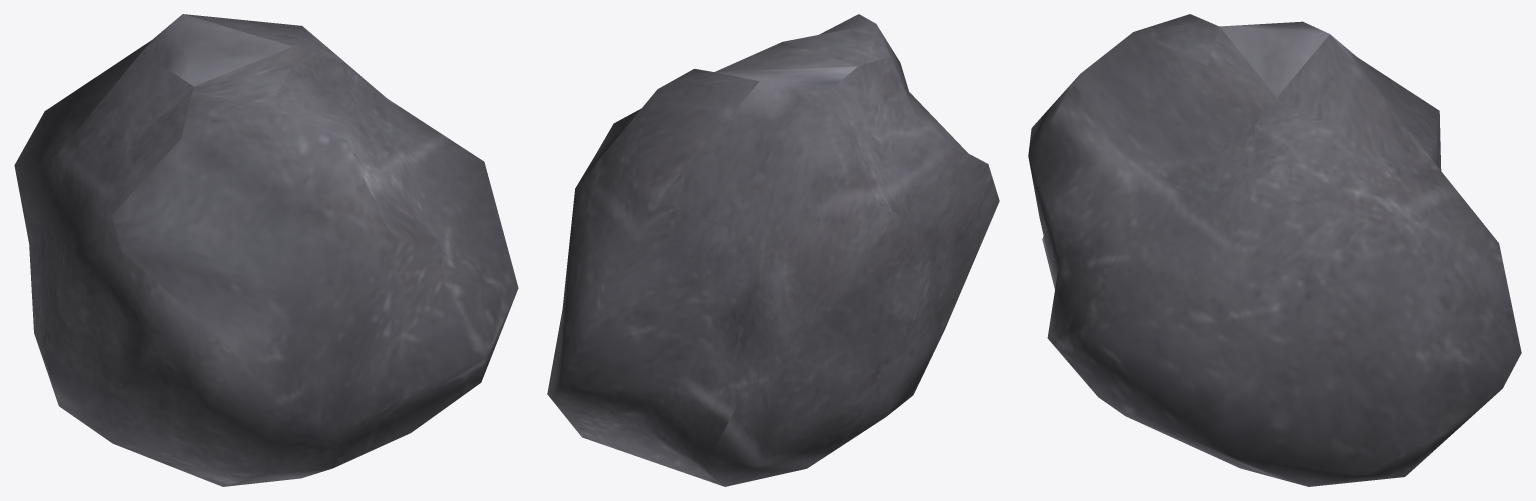
File: stoneOreLP.fbx
The picture shows the model from 3 angles, left to right: view 1: azimuth 30°, elevation 25°; view 2: azimuth 150°, elevation 25°; view 3: azimuth 270°, elevation 25°; orthographic projection. The views are drawn at different scales.
Visible parts, largest first — view 1: Ore.024; view 2: Ore.024; view 3: Ore.024.
Part boxes in pixels (x1,y1,x2,y2): Ore.024: [14, 14, 518, 486]; Ore.024: [547, 14, 999, 486]; Ore.024: [1028, 14, 1521, 486].
Size of the model in its own units: 298 by 325 by 357.
